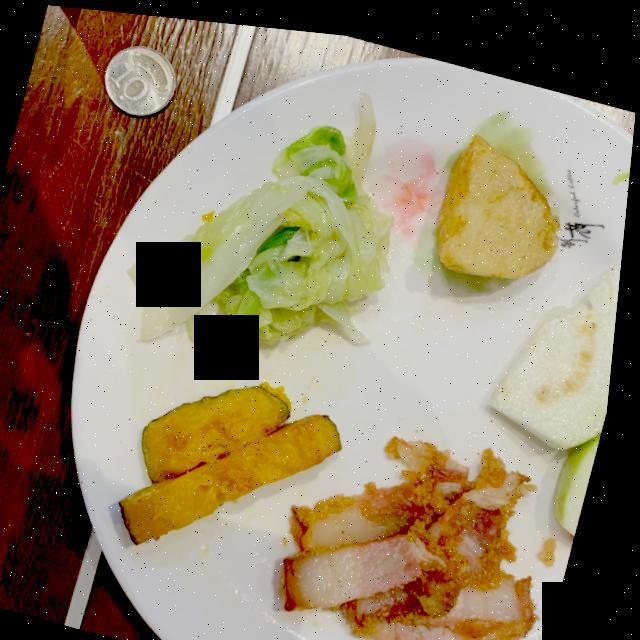cabbage: (133, 85, 396, 339)
coin: (105, 43, 176, 113)
fried potato: (439, 124, 563, 267)
guava -sliced-: (496, 249, 625, 523)
pumpkin: (129, 378, 348, 540)
red grilled pork: (292, 427, 547, 640)
